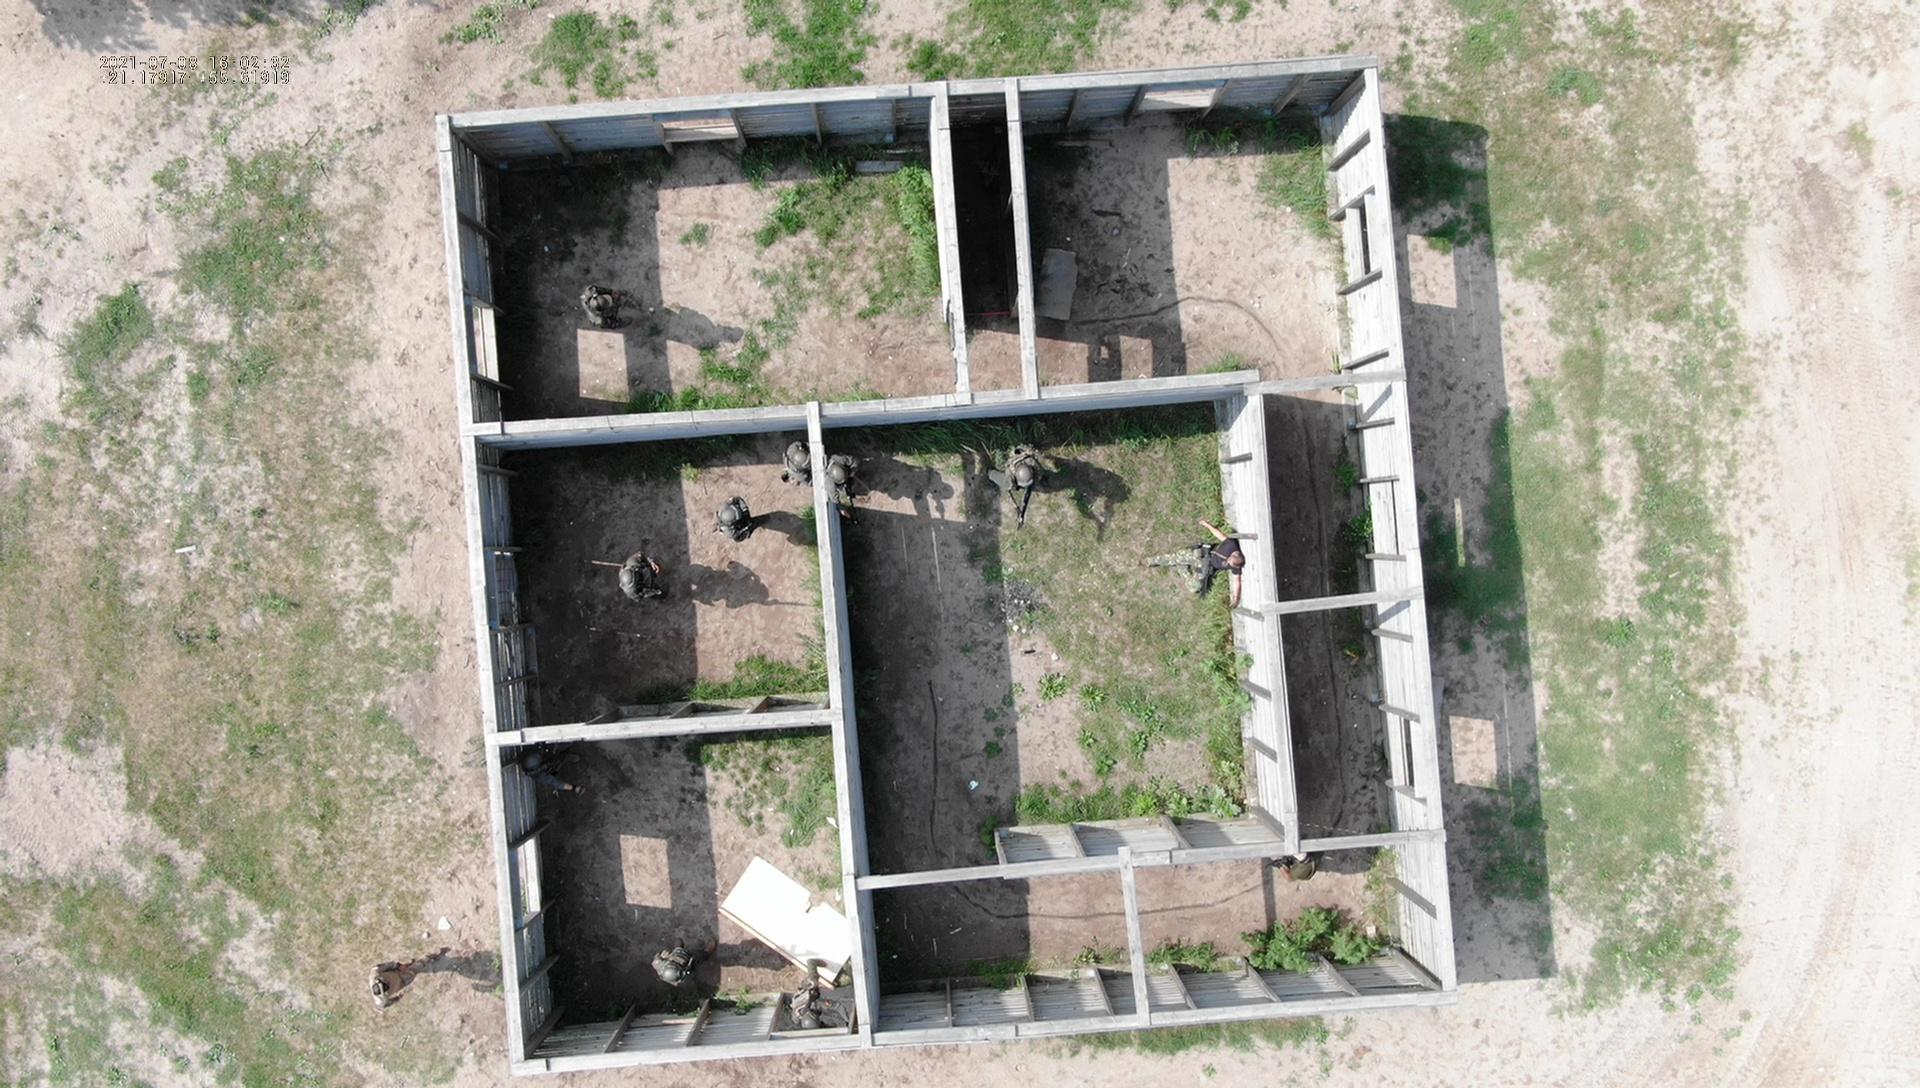Soldier: (1151, 518, 1253, 626), (345, 918, 444, 1015), (646, 934, 727, 1006), (563, 273, 658, 332), (695, 476, 766, 547), (796, 952, 856, 1037), (518, 736, 595, 798), (993, 442, 1050, 524), (816, 439, 874, 509), (771, 433, 822, 497), (609, 543, 659, 607)
